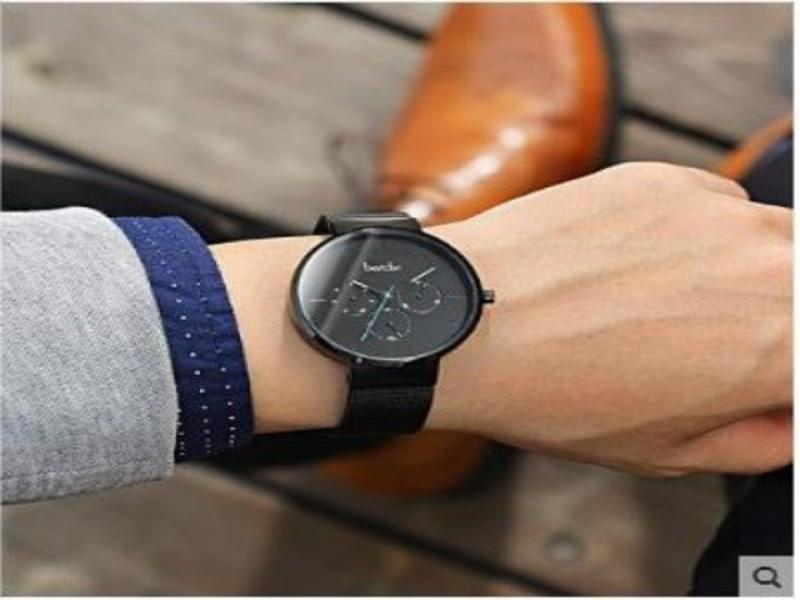watch: (289, 207, 498, 435)
